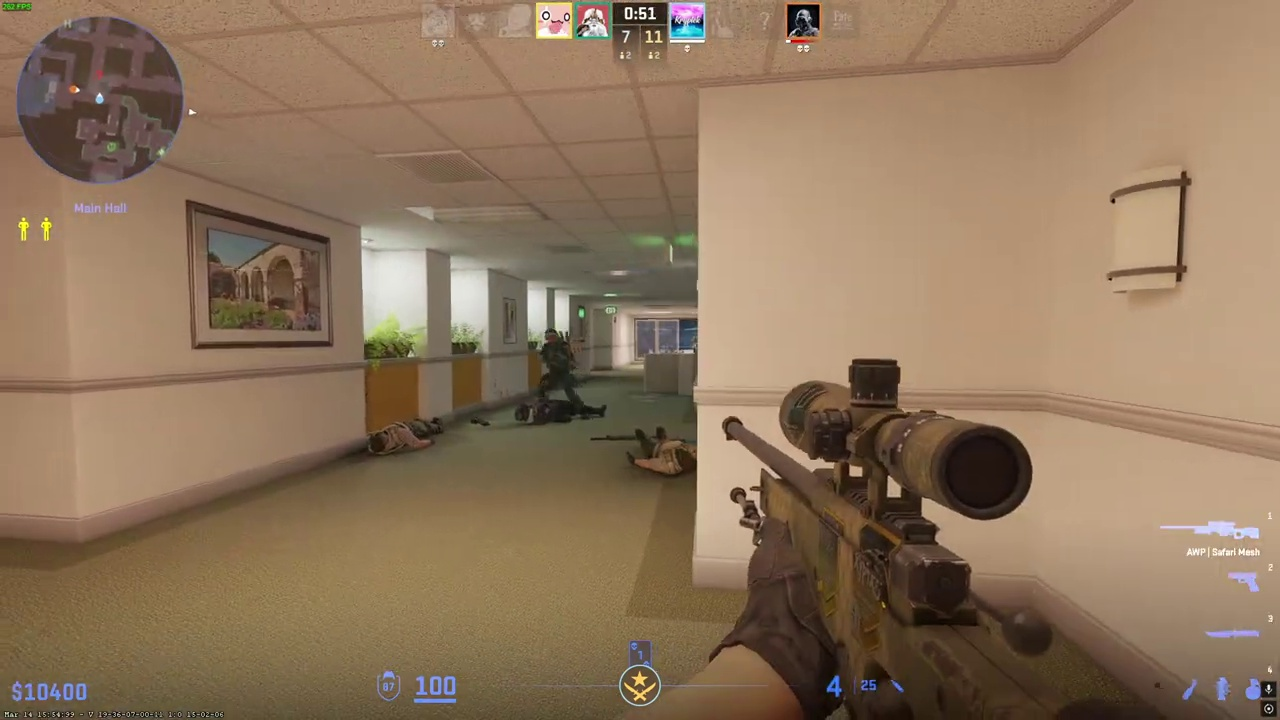CT: (531, 329, 589, 425)
